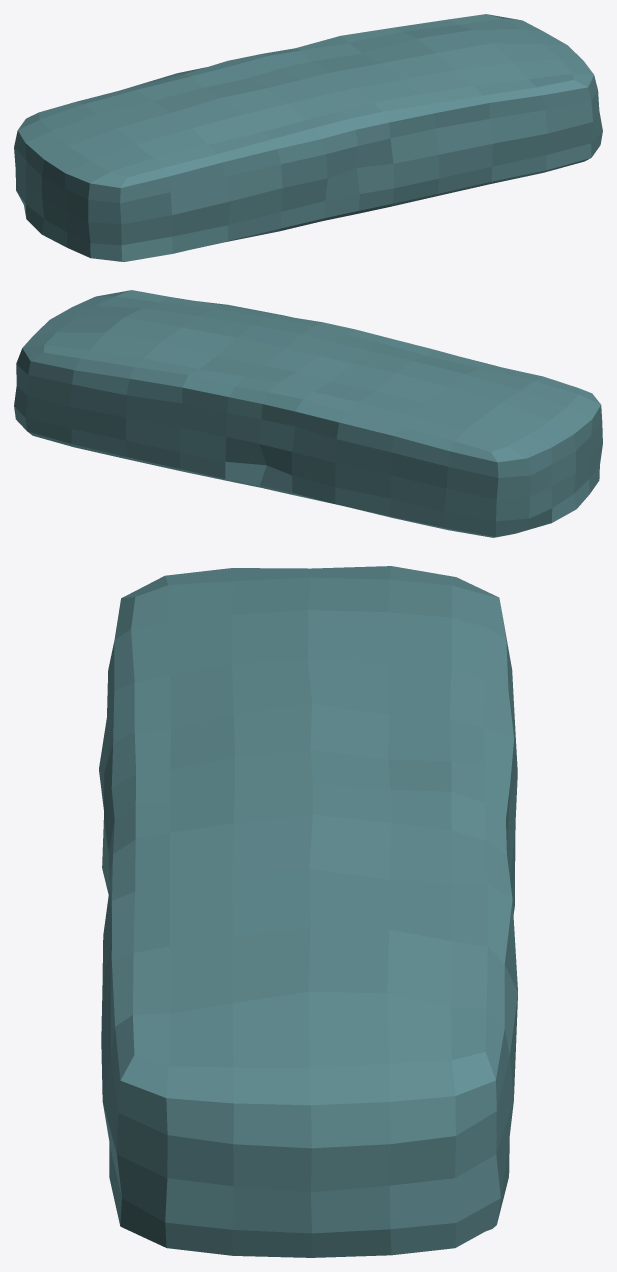
File: Rock_Grass_02_Lod1_Mod2.fbx
3 renders of one model, top to bottom at view 1: azimuth 30°, elevation 25°; view 2: azimuth 150°, elevation 25°; view 3: azimuth 270°, elevation 25°, orthographic. The views are drawn at different scales.
Parts seen in each view (by area): view 1: Rock_Grass_02_Lod1_Mod2; view 2: Rock_Grass_02_Lod1_Mod2; view 3: Rock_Grass_02_Lod1_Mod2.
Part boxes in pixels (<box>): Rock_Grass_02_Lod1_Mod2: <box>14,14,602,261</box>; Rock_Grass_02_Lod1_Mod2: <box>14,290,602,537</box>; Rock_Grass_02_Lod1_Mod2: <box>99,566,517,1257</box>.
Bounding box in the file's own units: 1037 × 202 × 352.
